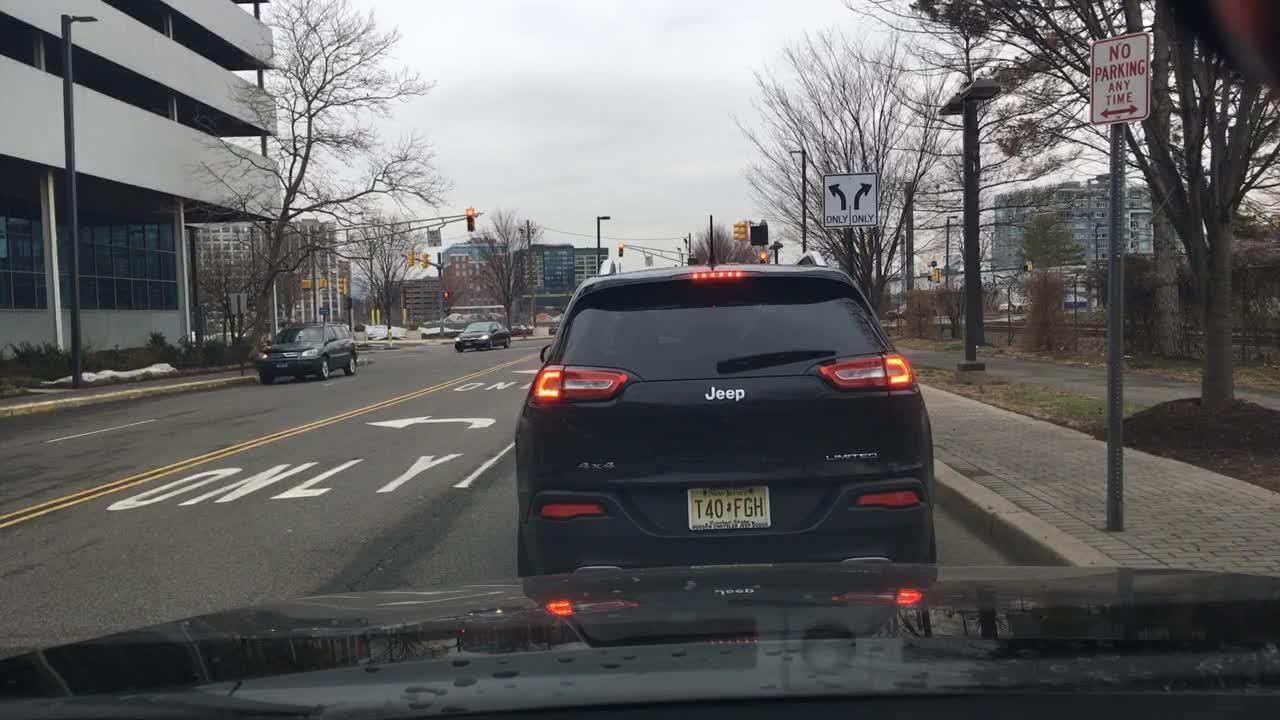jeep: (689, 377, 755, 410)
